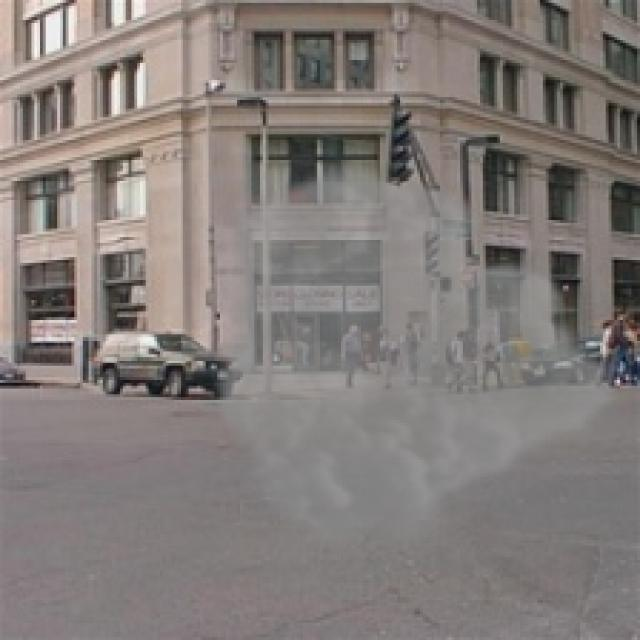smoke: (208, 163, 628, 560)
